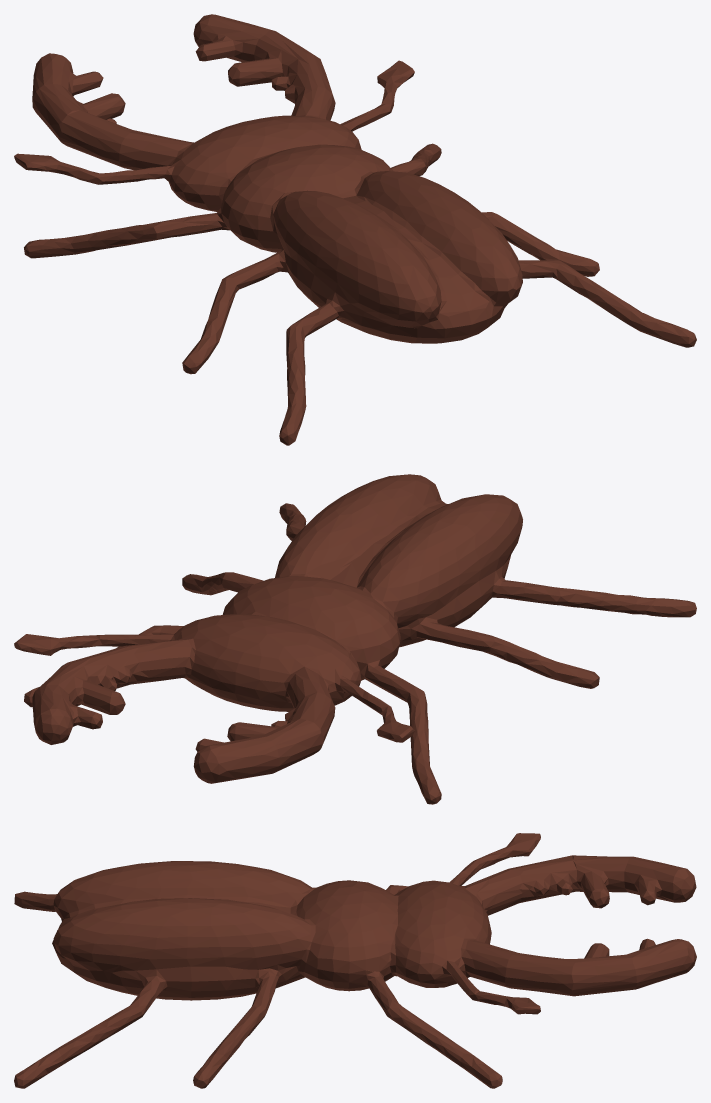
The model's file is NEW_RECOVERY_065_LOD0.glb.
3 views of the same model, one above another, from view 1: azimuth 30°, elevation 25°; view 2: azimuth 150°, elevation 25°; view 3: azimuth 270°, elevation 25° (orthographic). The views are drawn at different scales.
Visible parts, largest first — view 1: StagBeetle; view 2: StagBeetle; view 3: StagBeetle.
Boxes of the visible parts, x1,y1,x2,y2 form: StagBeetle: (14,14,696,445); StagBeetle: (14,474,696,804); StagBeetle: (14,833,696,1088).
Size of the model in its own units: 3.24 by 0.9221 by 4.98.
